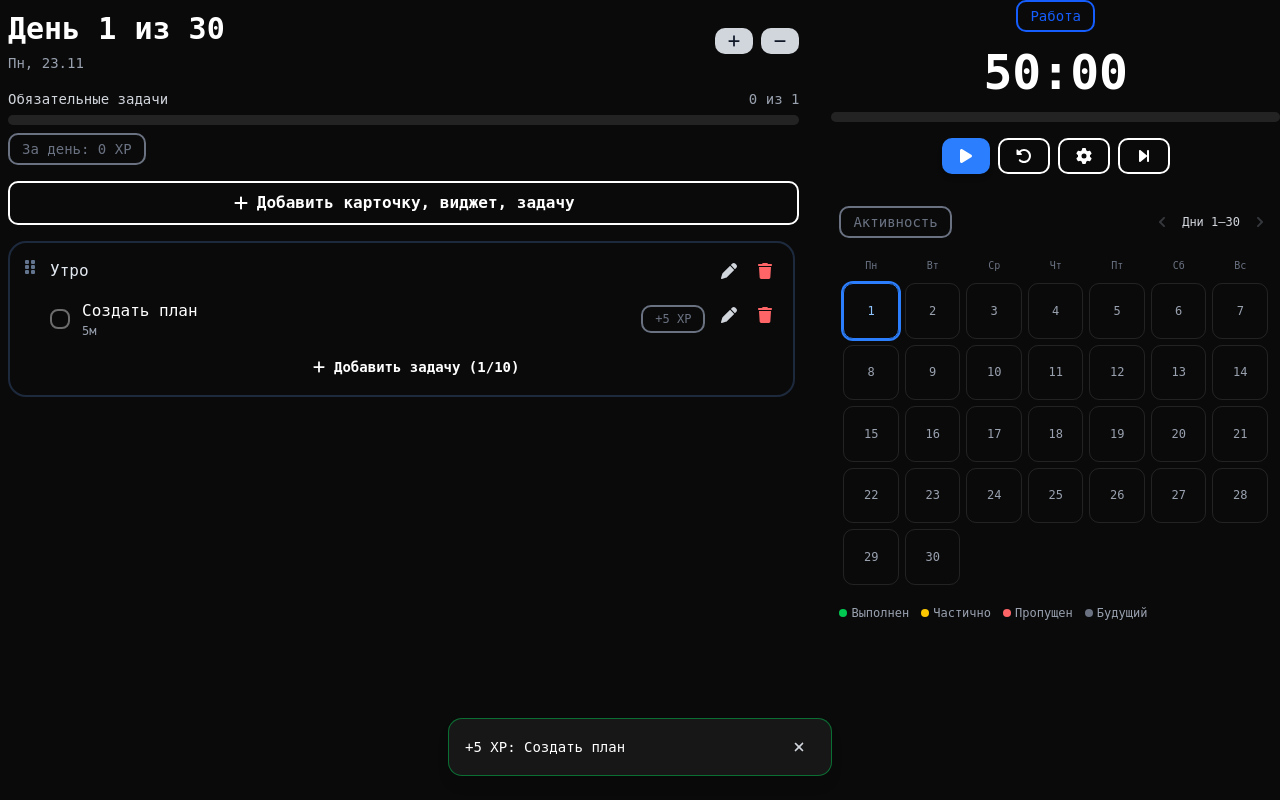
it: страница «Сегодня» › выполнение обязательной задачи закрывает день
The image size is (1280, 800).
Click the checkbox labelled "Создать план 5м +5 XP" at (140, 311), box [50,299,705,339]
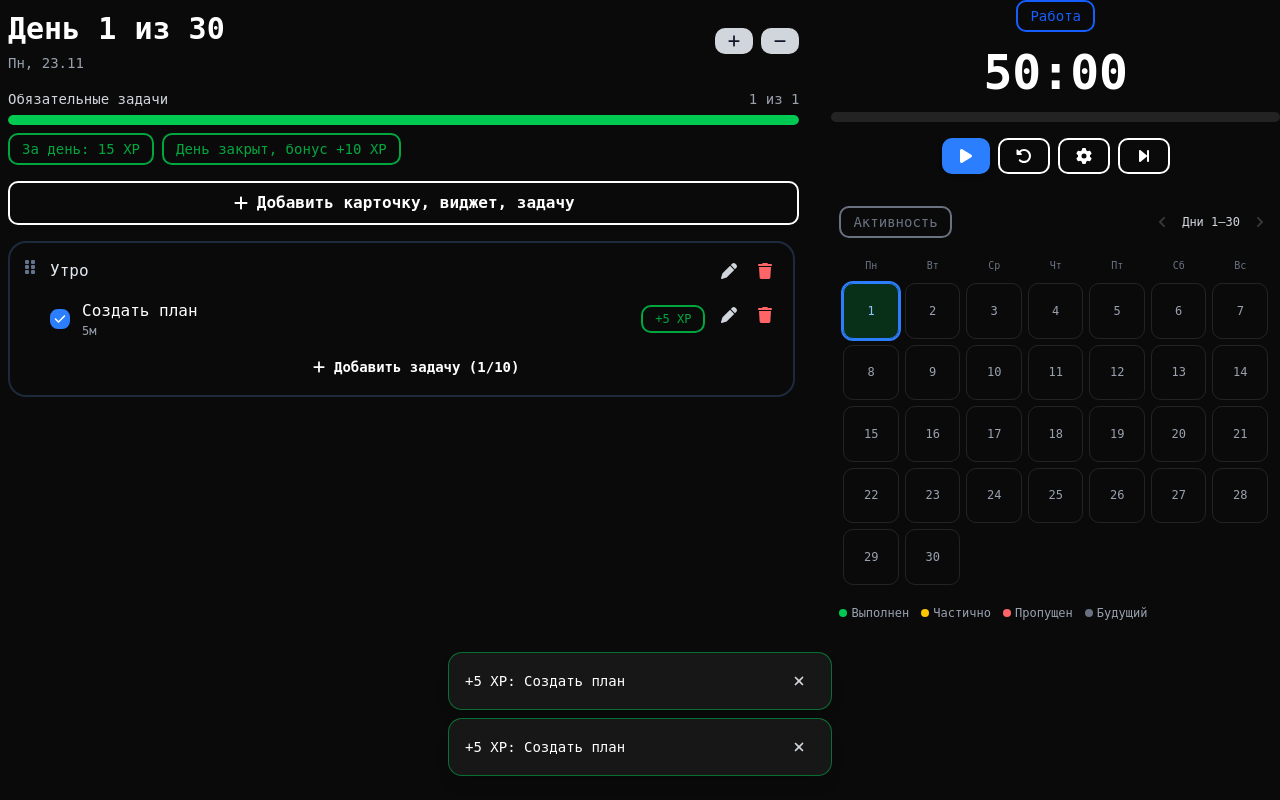
Expected: the text "1 из 1" is shown, [749,89,799,109]
Expected: the text "За день: 15 XP" is shown, [8,133,154,165]
